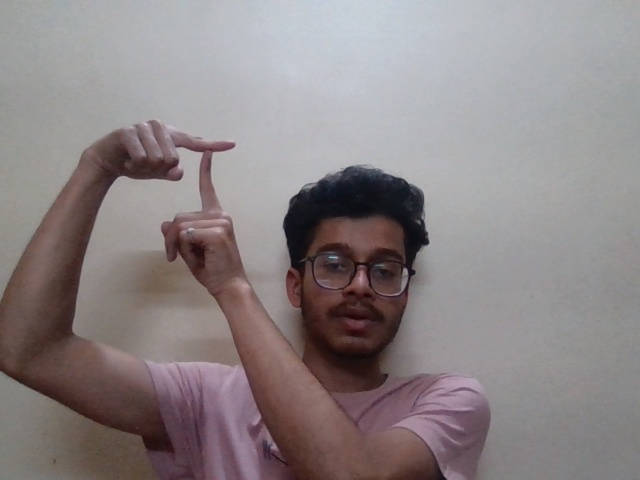T: (153, 114, 250, 290)
